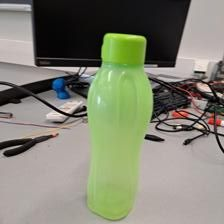bottle: (79, 30, 149, 224)
